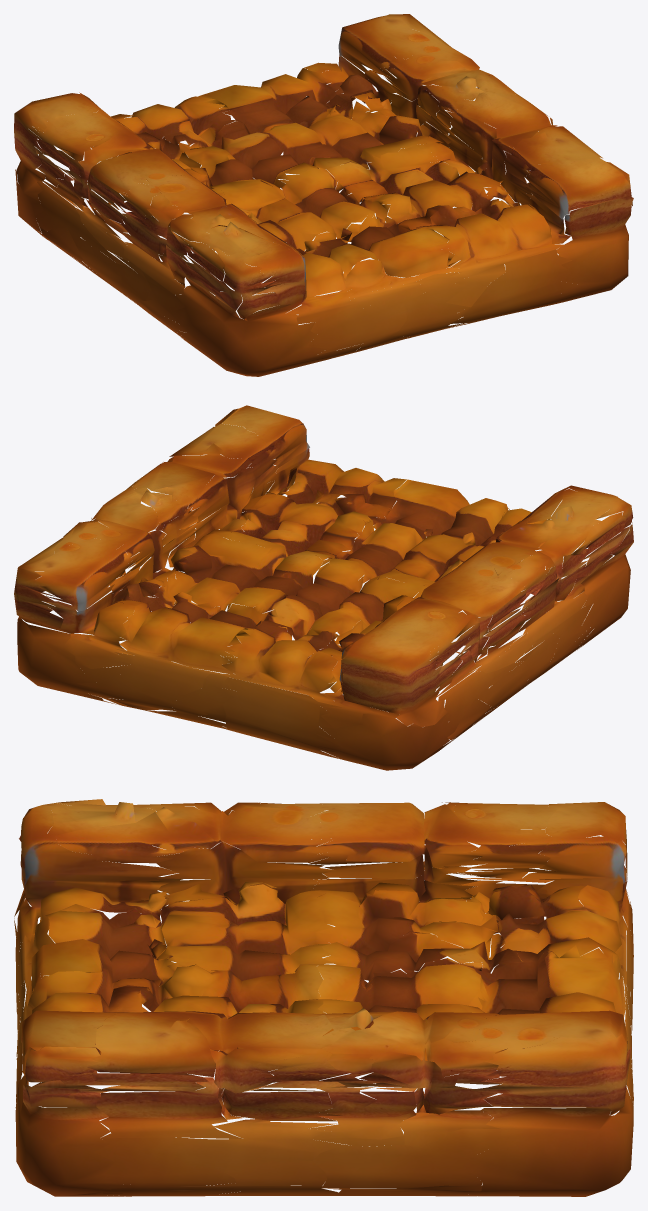
File: prop-pastry-dessert.glb
The picture shows the model from 3 angles, top to bottom: view 1: azimuth 30°, elevation 25°; view 2: azimuth 150°, elevation 25°; view 3: azimuth 270°, elevation 25°; orthographic projection. The views are drawn at different scales.
Visible parts, largest first — view 1: tripo_node_cfae3d96-ca97-4f06-8674-036751da0768; view 2: tripo_node_cfae3d96-ca97-4f06-8674-036751da0768; view 3: tripo_node_cfae3d96-ca97-4f06-8674-036751da0768.
Boxes of the visible parts, x1,y1,x2,y2 form: tripo_node_cfae3d96-ca97-4f06-8674-036751da0768: (14,14,633,376); tripo_node_cfae3d96-ca97-4f06-8674-036751da0768: (14,405,633,770); tripo_node_cfae3d96-ca97-4f06-8674-036751da0768: (14,799,633,1196).
Size of the model in its own units: 1 by 0.3163 by 1.
Materials: 1 (1 with a texture image).
